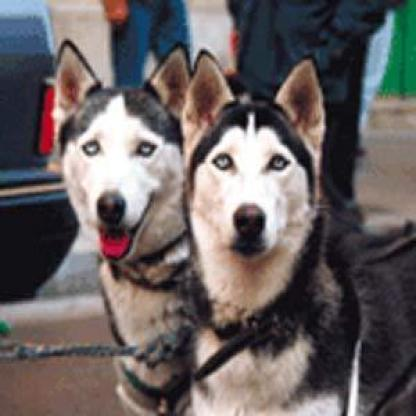Siberian_husky: (182, 49, 413, 413), (54, 35, 189, 413)
